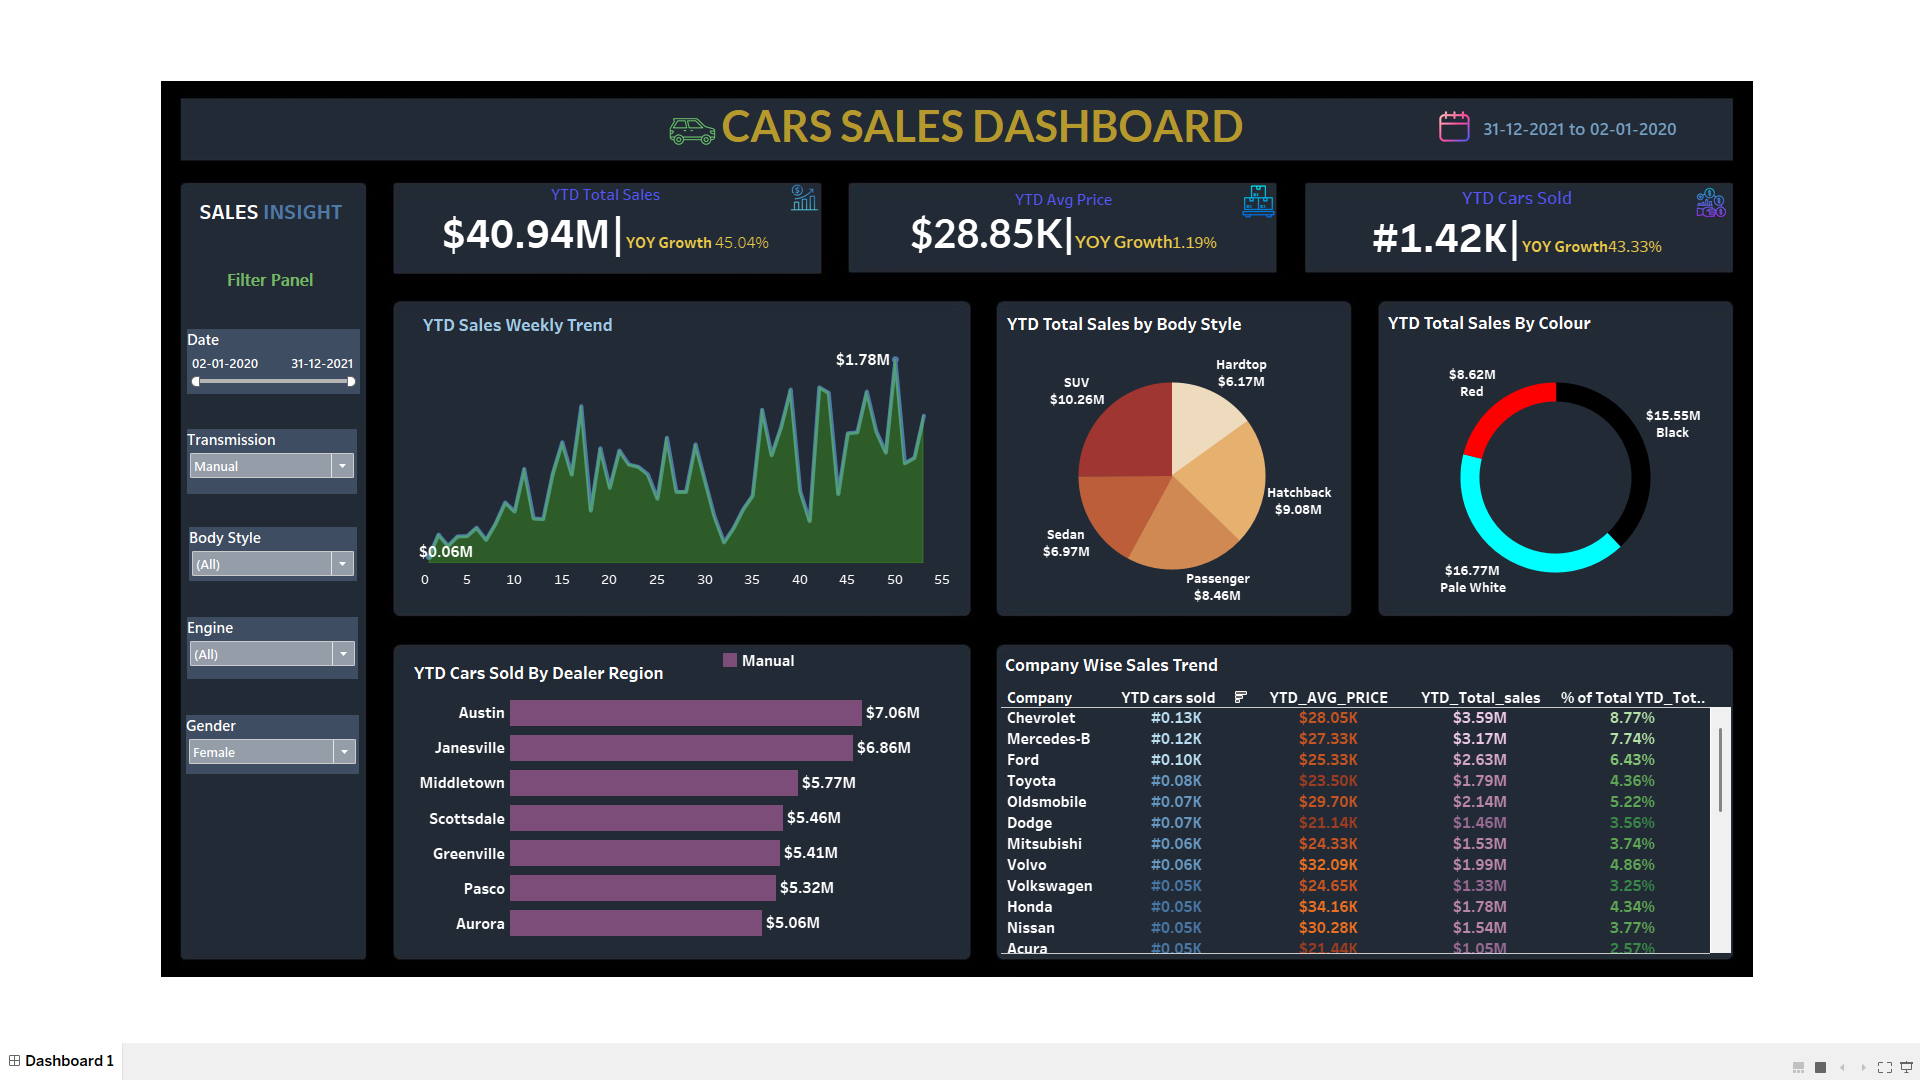

The page's visual inventory and layout, read from the dashboard file:
{"tool":"tableau","page":{"name":"Dashboard 1","canvas":[1600,900],"ordinal":0},"visuals":[{"type":"text","box":[558,29,529,52]},{"type":"worksheet","title":"Date Range","mark":"Automatic","box":[1277,31,287,53]},{"type":"image","param":"Image/Car Icon.png","box":[505,33,54,54]},{"type":"image","param":"Image/calendar.png","box":[1277,38,42,34]},{"type":"worksheet","title":"YTD total Sales","mark":"Automatic","box":[234,108,424,86]},{"type":"worksheet","title":"YTD Avg Price","mark":"Automatic","box":[696,109,416,87]},{"type":"image","param":"Image/Sales Icon.png","box":[629,111,30,35]},{"type":"image","param":"Image/Avg Price Icon.png","box":[1081,113,34,34]},{"type":"worksheet","title":"YTD Cars Sold","mark":"Automatic","box":[1146,113,423,81]},{"type":"image","param":"Image/Cars Sold Icon.png","box":[1536,116,30,32]},{"type":"text","box":[36,125,150,30]},{"type":"text","box":[35,193,150,30]},{"type":"worksheet","title":"YTD Total Sales By Colour","mark":"Pie","rows":["Calculation_1156862212438077441","Calculation_1156862212438134787"],"box":[1224,236,343,303]},{"type":"worksheet","title":"YTD Total Sales by Body Style","mark":"Pie","box":[843,237,338,298]},{"type":"worksheet","title":"YTD Sales Weekly Trend","mark":"Area","rows":["Calculation_10977582207418368","Calculation_10977582207418368"],"cols":["Date"],"box":[259,238,533,284]},{"type":"filter","title":"YTD Sales Weekly Trend","param":"[federated.1jwyxyz0s72rgd14mmmsp16ofefg].[none:Date:qk]","box":[27,258,173,65]},{"type":"filter","title":"YTD Sales Weekly Trend","param":"[federated.1jwyxyz0s72rgd14mmmsp16ofefg].[none:Transmission:nk]","box":[27,358,170,65]},{"type":"filter","title":"YTD Sales Weekly Trend","param":"[federated.1jwyxyz0s72rgd14mmmsp16ofefg].[none:Body Style:nk]","box":[29,456,168,54]},{"type":"filter","title":"YTD Sales Weekly Trend","param":"[federated.1jwyxyz0s72rgd14mmmsp16ofefg].[none:Engine:nk]","box":[27,546,171,62]},{"type":"worksheet","title":"Company Wise Sales Trend","mark":"Automatic","rows":["Company"],"box":[841,578,730,305]},{"type":"legend","title":"YTD Cars Sold By Dealer Region","param":"[federated.1jwyxyz0s72rgd14mmmsp16ofefg].[none:Transmission:nk]","box":[560,579,247,48]},{"type":"worksheet","title":"YTD Cars Sold By Dealer Region","mark":"Automatic","rows":["Dealer_Region"],"cols":["Calculation_10977582207418368"],"box":[250,586,533,284]},{"type":"filter","title":"YTD Sales Weekly Trend","param":"[federated.1jwyxyz0s72rgd14mmmsp16ofefg].[none:Gender:nk]","box":[26,644,173,59]}]}

Visuals, with their boxes on the page's 1600x900 design canvas (x1, y1, x2, y2). These are canvas units, not pixel positions in the 1920x1080 screenshot, which may show the page scaled, cropped or inside an application window:
text: left=558, top=29, right=1087, bottom=81
"Date Range" worksheet: left=1277, top=31, right=1564, bottom=84
image: left=505, top=33, right=559, bottom=87
image: left=1277, top=38, right=1319, bottom=72
"YTD total Sales" worksheet: left=234, top=108, right=658, bottom=194
"YTD Avg Price" worksheet: left=696, top=109, right=1112, bottom=196
image: left=629, top=111, right=659, bottom=146
image: left=1081, top=113, right=1115, bottom=147
"YTD Cars Sold" worksheet: left=1146, top=113, right=1569, bottom=194
image: left=1536, top=116, right=1566, bottom=148
text: left=36, top=125, right=186, bottom=155
text: left=35, top=193, right=185, bottom=223
"YTD Total Sales By Colour" worksheet (Pie marks): left=1224, top=236, right=1567, bottom=539
"YTD Total Sales by Body Style" worksheet (Pie marks): left=843, top=237, right=1181, bottom=535
"YTD Sales Weekly Trend" worksheet (Area marks): left=259, top=238, right=792, bottom=522
"YTD Sales Weekly Trend" filter: left=27, top=258, right=200, bottom=323
"YTD Sales Weekly Trend" filter: left=27, top=358, right=197, bottom=423
"YTD Sales Weekly Trend" filter: left=29, top=456, right=197, bottom=510
"YTD Sales Weekly Trend" filter: left=27, top=546, right=198, bottom=608
"Company Wise Sales Trend" worksheet: left=841, top=578, right=1571, bottom=883
"YTD Cars Sold By Dealer Region" legend: left=560, top=579, right=807, bottom=627
"YTD Cars Sold By Dealer Region" worksheet: left=250, top=586, right=783, bottom=870
"YTD Sales Weekly Trend" filter: left=26, top=644, right=199, bottom=703
